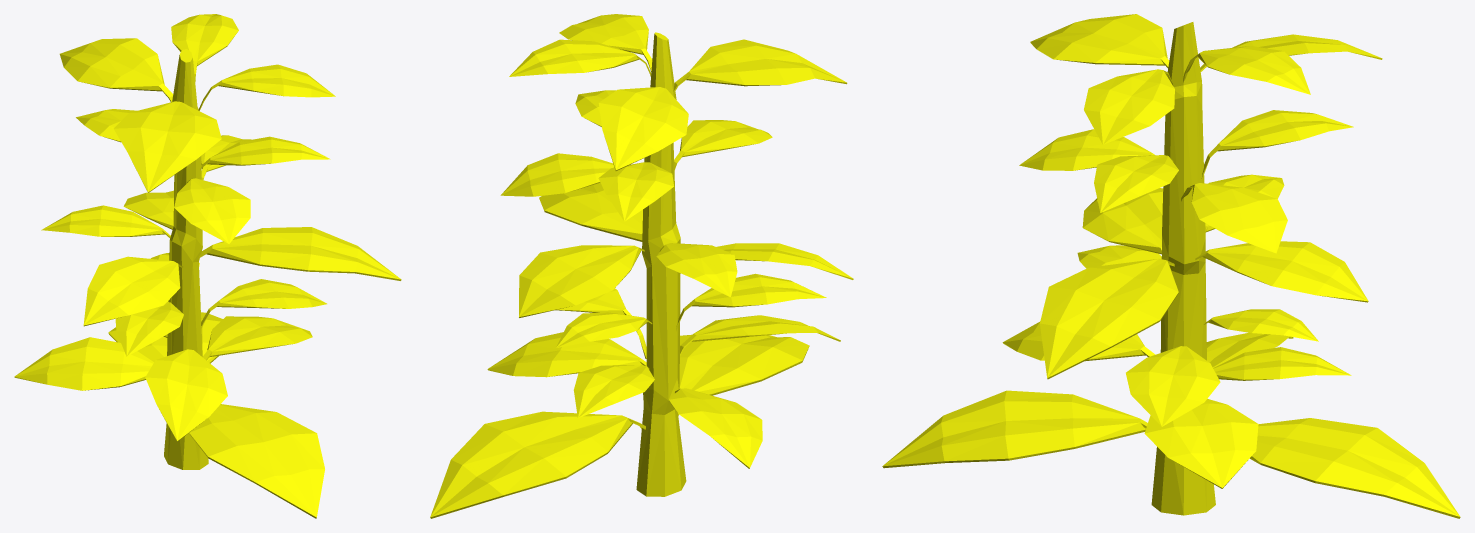
Rendered from plant02.glb.
The picture shows the model from 3 angles, left to right: view 1: azimuth 30°, elevation 25°; view 2: azimuth 150°, elevation 25°; view 3: azimuth 270°, elevation 25°; orthographic projection. The views are drawn at different scales.
Visible parts, largest first — view 1: plant02; view 2: plant02; view 3: plant02.
Boxes of the visible parts, x1,y1,x2,y2 form: plant02: [14, 14, 401, 518]; plant02: [430, 14, 853, 518]; plant02: [882, 14, 1460, 518].
Bounding box in the file's own units: 2.3 × 3.03 × 3.28.
1 material, 1 textured.
